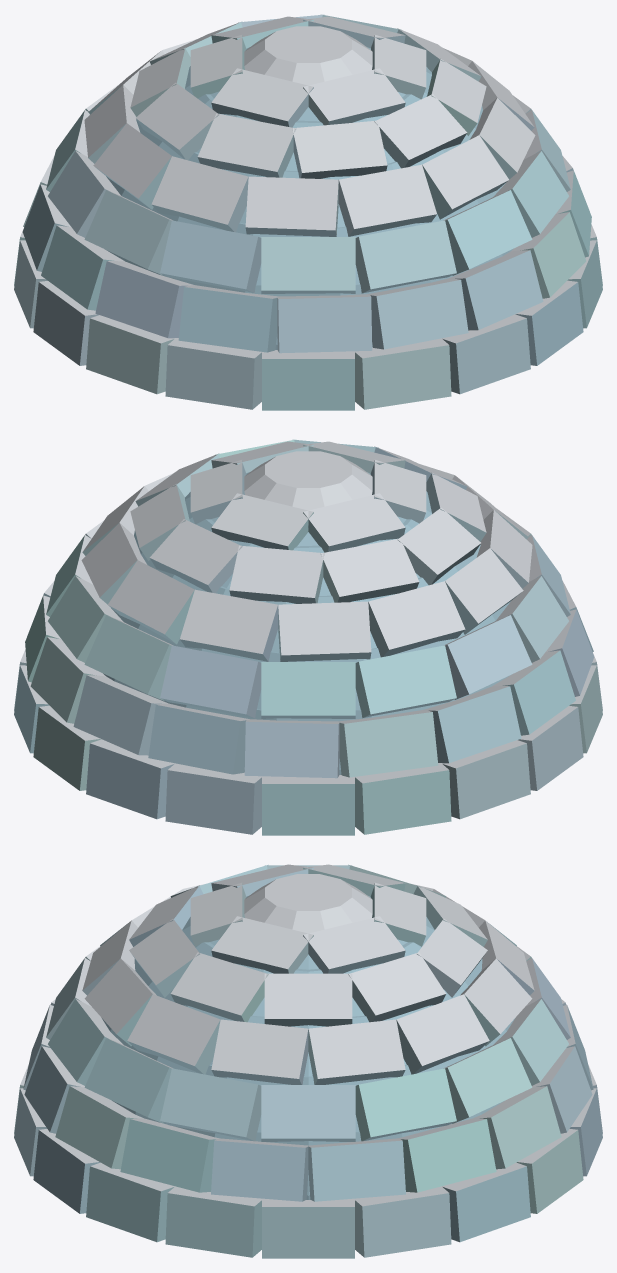
Rendered from Igloo_Dome.glb.
3 renders of one model, top to bottom at view 1: azimuth 30°, elevation 25°; view 2: azimuth 150°, elevation 25°; view 3: azimuth 270°, elevation 25°, orthographic.
Visible parts, largest first — view 1: Igloo_Dome; view 2: Igloo_Dome; view 3: Igloo_Dome.
Part boxes in pixels (bbox=[...]): Igloo_Dome: bbox=[14, 14, 602, 410]; Igloo_Dome: bbox=[14, 439, 602, 835]; Igloo_Dome: bbox=[14, 864, 602, 1258].
Bounding box in the file's own units: 14.36 × 6.7 × 14.54.
